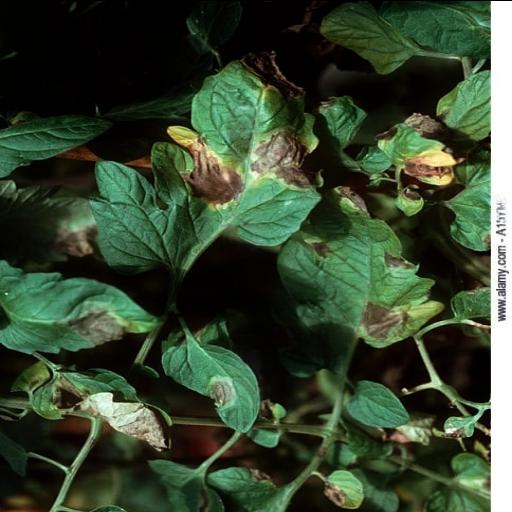Healthy: (344, 378, 410, 427)
Late Blight: (86, 46, 326, 273), (275, 183, 444, 348), (0, 258, 165, 352), (27, 361, 173, 452), (158, 340, 262, 432), (354, 112, 466, 186), (319, 468, 367, 510)
